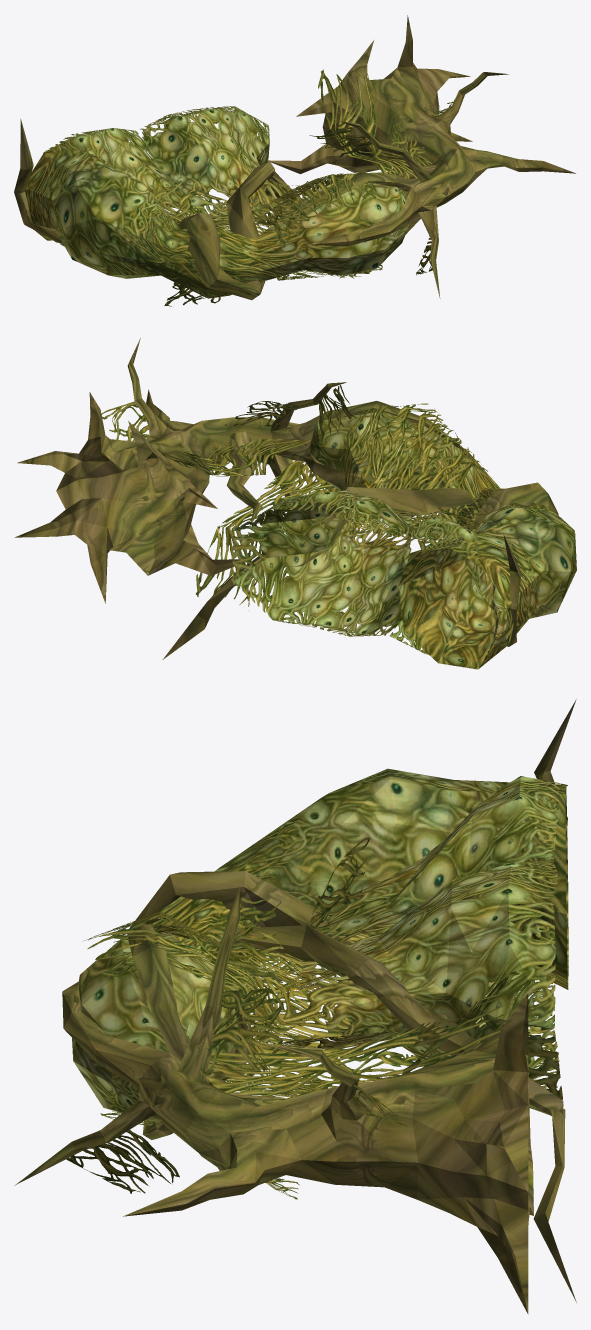
The model's file is huodong_fuben_249_tengman_01b.obj.
3 renders of one model, top to bottom at view 1: azimuth 30°, elevation 25°; view 2: azimuth 150°, elevation 25°; view 3: azimuth 270°, elevation 25°, orthographic. The views are drawn at different scales.
Parts seen in each view (by area): view 1: huodong_fuben_249_tengman_01b; view 2: huodong_fuben_249_tengman_01b; view 3: huodong_fuben_249_tengman_01b.
Part boxes in pixels (bbox=[...]): huodong_fuben_249_tengman_01b: bbox=[14, 15, 575, 306]; huodong_fuben_249_tengman_01b: bbox=[14, 338, 576, 669]; huodong_fuben_249_tengman_01b: bbox=[14, 699, 576, 1314].
Bounding box in the file's own units: 402 × 176 × 237.
3 materials, 3 textured.
